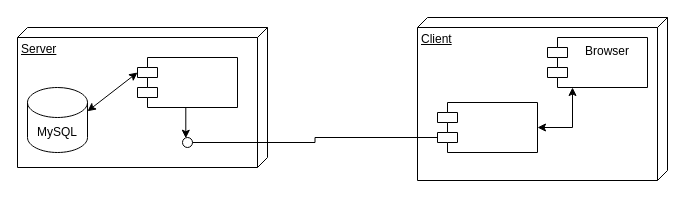
The diagram is 685 pixels wide and 198 high, and some of its shapes have lost their labels. The centre of each missing label's shape, as x and y in pixels:
Flaks API: pixel 187 82
Vue app: pixel 487 127
